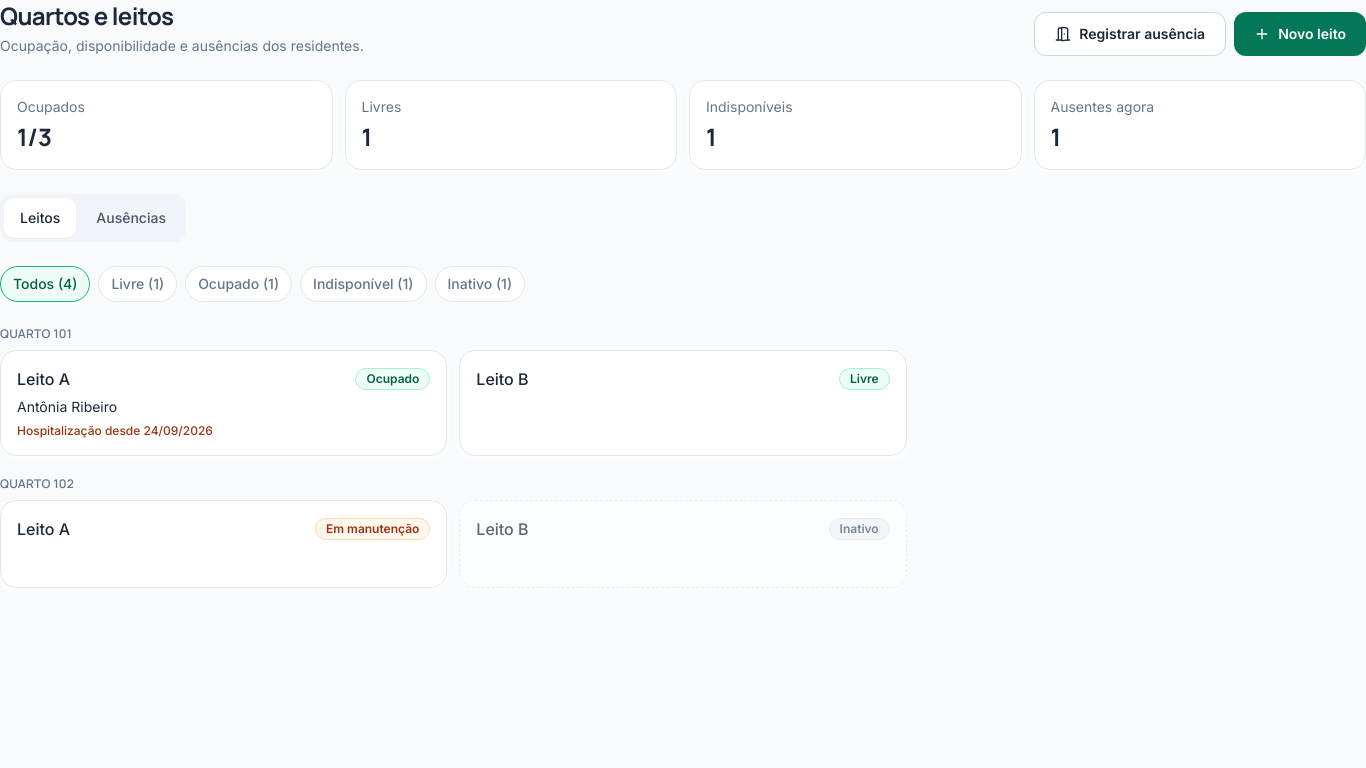
Quartos e leitos — ações por estado › leito livre: aloca só residente sem leito
The width and height of the screenshot is (1366, 768).
Step 1. Click the button "Leito B Livre" → (497, 379), box x1=459 y1=350 x2=907 y2=456
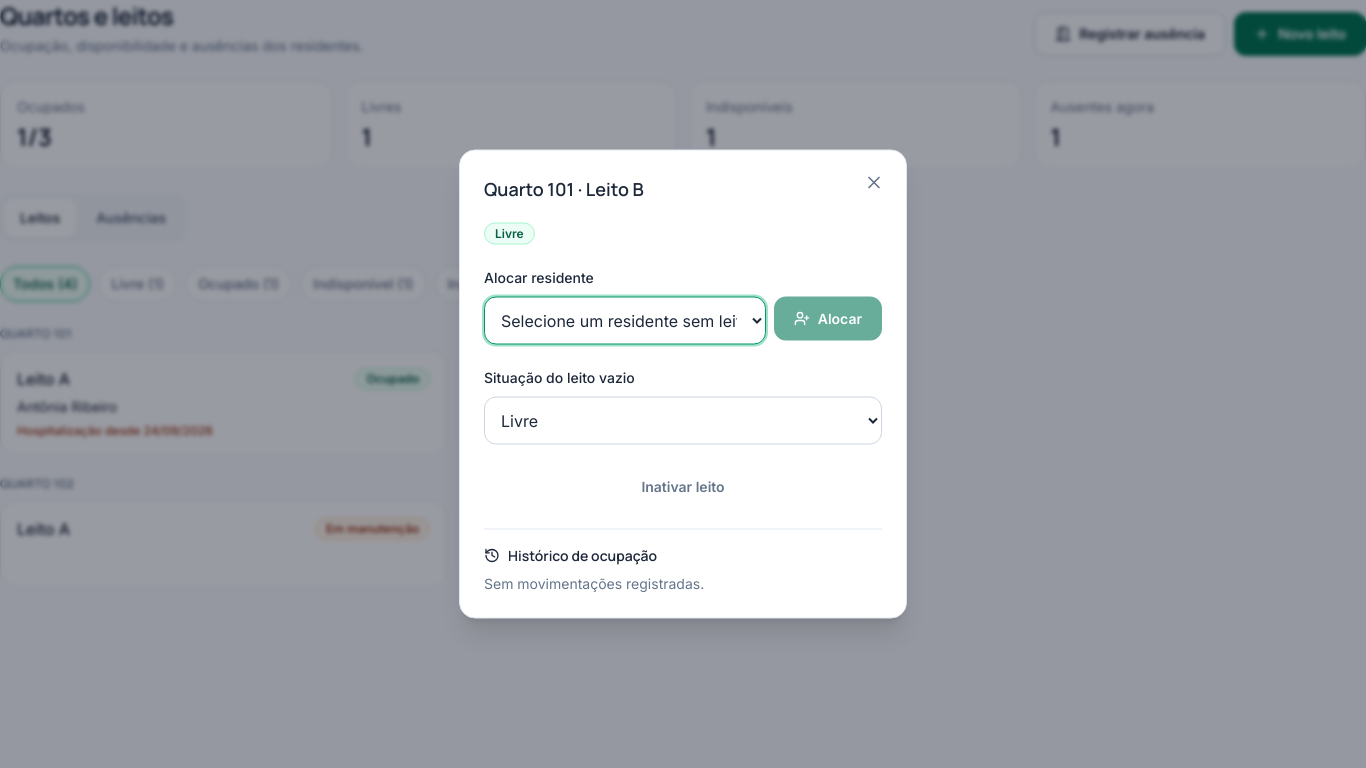
expect the option does not show "Antônia Ribeiro": met
Step 2. Select "Benedito Carvalho" in the dropdown labelled "Alocar residente" → (625, 320), box x1=484 y1=296 x2=766 y2=344
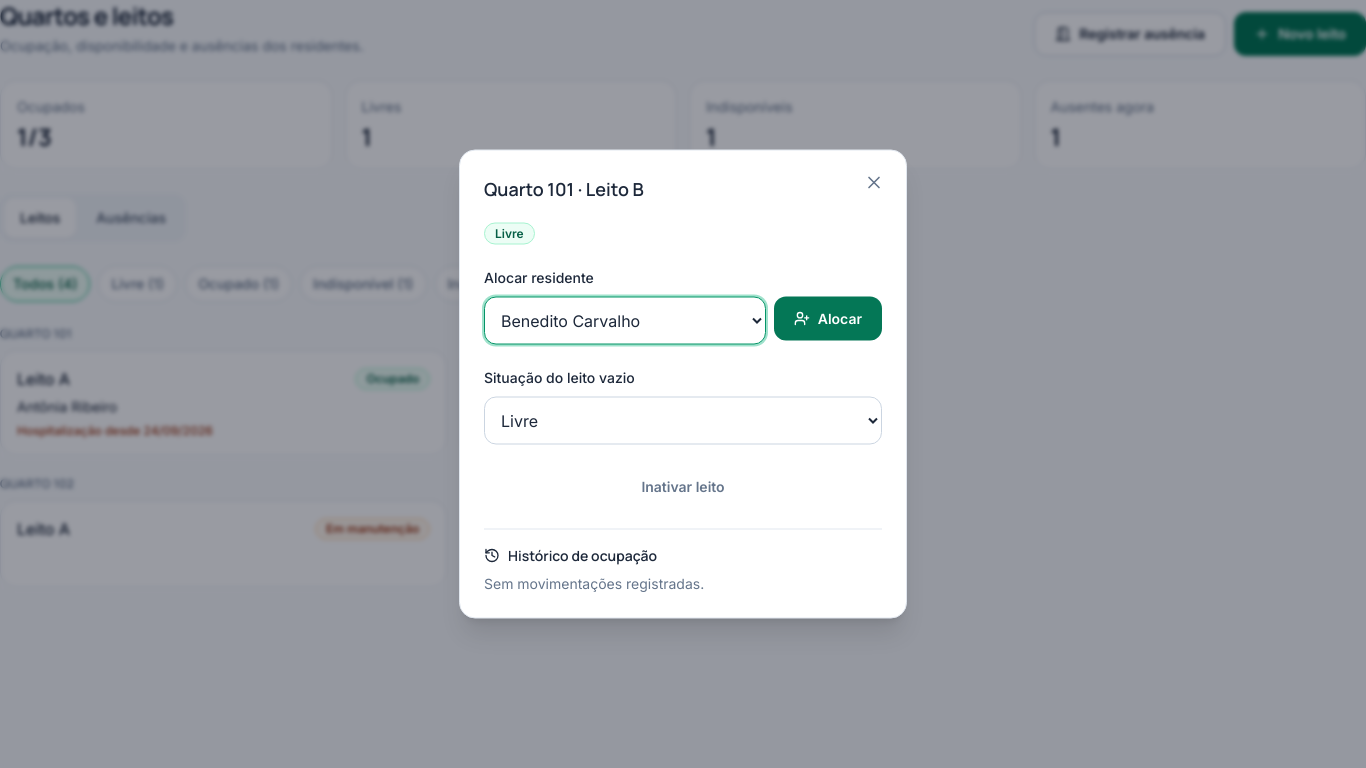
Step 3. Click the button "Alocar" → (828, 318), box x1=774 y1=296 x2=882 y2=340
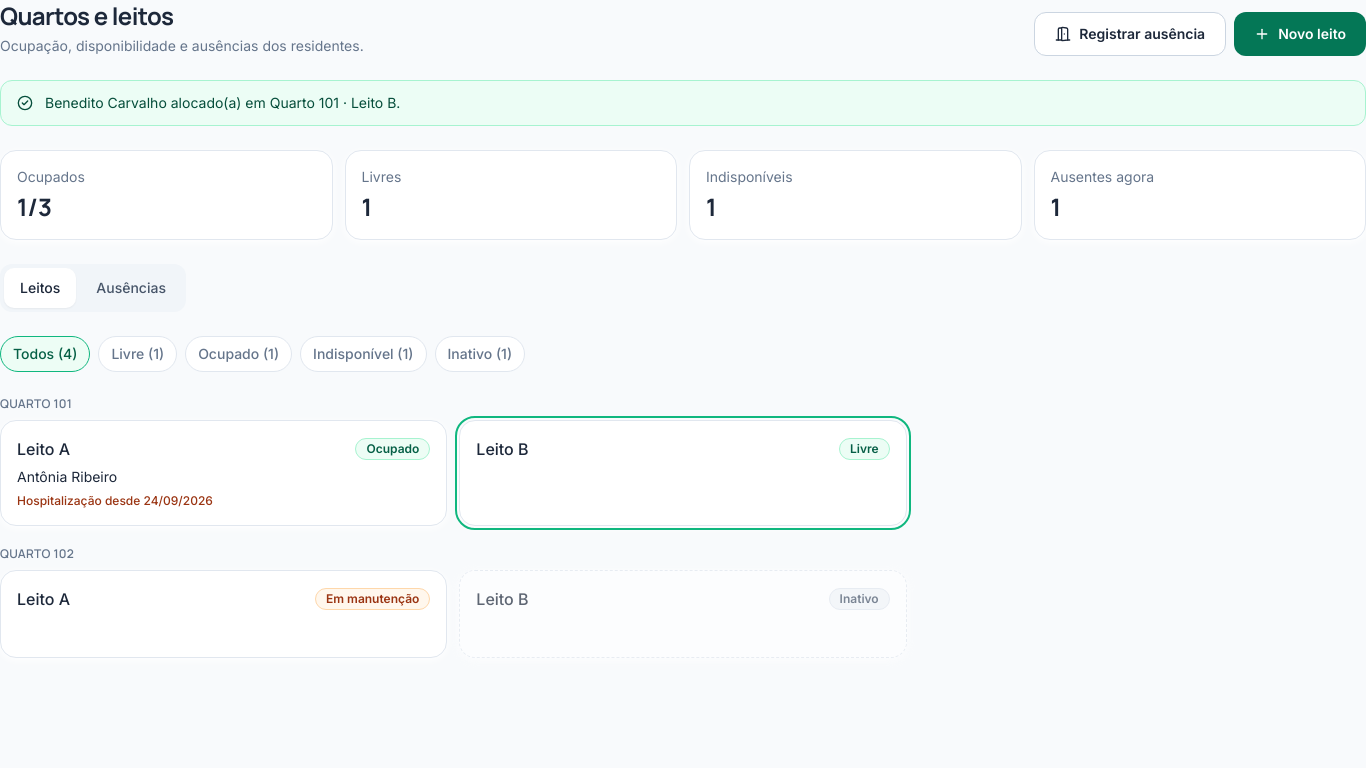
expect the text "Benedito Carvalho alocado(a) em Quarto 101 · Leito B." is shown: met, box x1=45 y1=93 x2=400 y2=113
